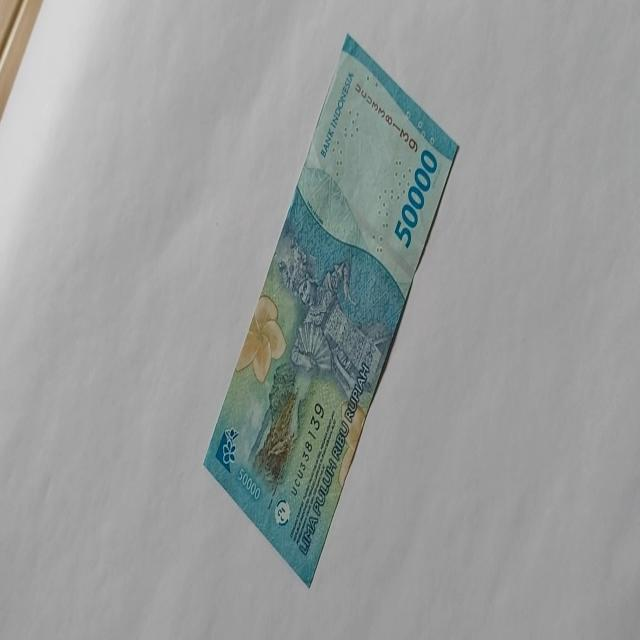lima puluh ribu rupiah: (202, 31, 460, 588)
